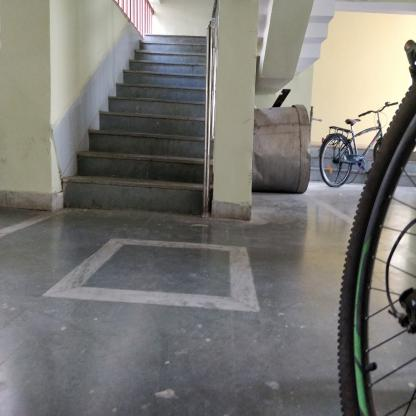stairs: (146, 32, 202, 222)
